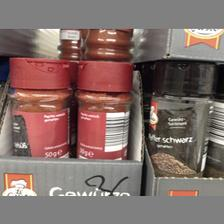Gewuerze: (146, 61, 214, 177), (5, 56, 71, 156), (72, 60, 132, 160)
